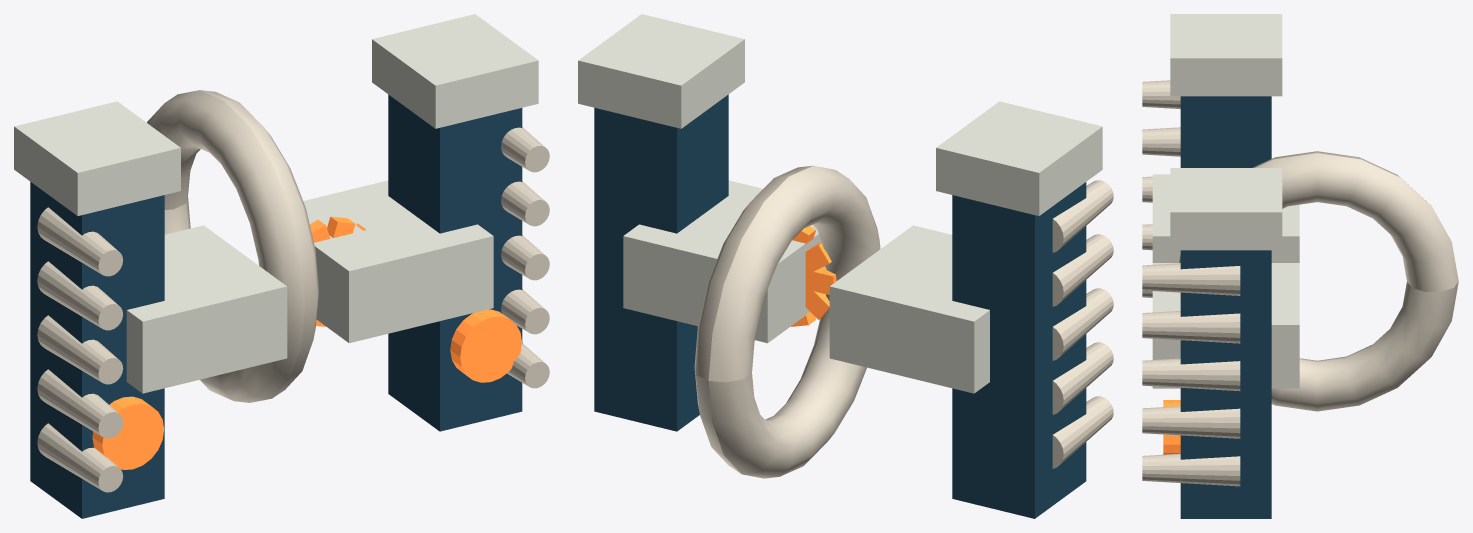
Rendered from landmark-medium.glb.
3 renders of one model, left to right at view 1: azimuth 30°, elevation 25°; view 2: azimuth 150°, elevation 25°; view 3: azimuth 270°, elevation 25°, orthographic. The views are drawn at different scales.
Parts seen in each view (by area): view 1: accent_static, porcelain_static, motion-press_1, hull_static, motion-turbine, motion-press_-1, trim_static; view 2: accent_static, motion-turbine, porcelain_static, motion-press_-1, motion-press_1, hull_static, trim_static; view 3: accent_static, motion-turbine, porcelain_static, hull_static, motion-press_1, motion-press_-1, trim_static.
Part boxes in pixels (x1,y1,x2,y2): accent_static: [30, 94, 522, 518]; porcelain_static: [14, 14, 538, 215]; motion-press_1: [303, 180, 493, 343]; hull_static: [37, 127, 549, 492]; motion-turbine: [147, 90, 318, 402]; motion-press_-1: [126, 225, 287, 393]; trim_static: [92, 216, 521, 469]; accent_static: [594, 94, 1086, 518]; motion-turbine: [694, 165, 880, 478]; porcelain_static: [578, 14, 1102, 215]; motion-press_-1: [829, 225, 989, 393]; motion-press_1: [623, 180, 824, 343]; hull_static: [1052, 180, 1113, 468]; trim_static: [791, 226, 836, 326]; accent_static: [1180, 96, 1271, 518]; motion-turbine: [1179, 151, 1458, 411]; porcelain_static: [1170, 14, 1282, 250]; hull_static: [1142, 80, 1240, 486]; motion-press_1: [1152, 263, 1299, 388]; motion-press_-1: [1152, 174, 1299, 262]; trim_static: [1163, 400, 1180, 454].
Bounding box in the file's own units: 1075 × 784 × 723.
